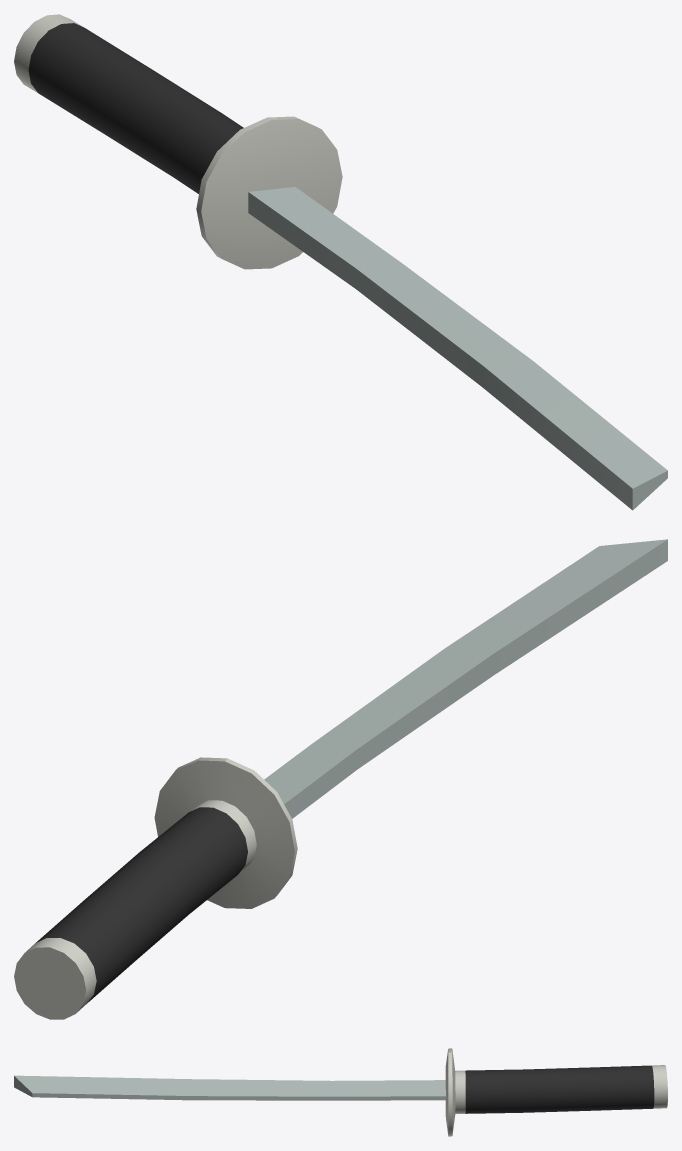
The model's file is Ninjato.fbx.
3 views of the same model, one above another, from view 1: azimuth 30°, elevation 25°; view 2: azimuth 150°, elevation 25°; view 3: azimuth 270°, elevation 25° (orthographic). The views are drawn at different scales.
Visible parts, largest first — view 1: Ninjato; view 2: Ninjato; view 3: Ninjato.
Part boxes in pixels (x1,y1,x2,y2): Ninjato: (14,14,667,510); Ninjato: (14,539,667,1019); Ninjato: (14,1048,667,1136).
Bounding box in the file's own units: 0.1483 × 0.1472 × 1.09.
